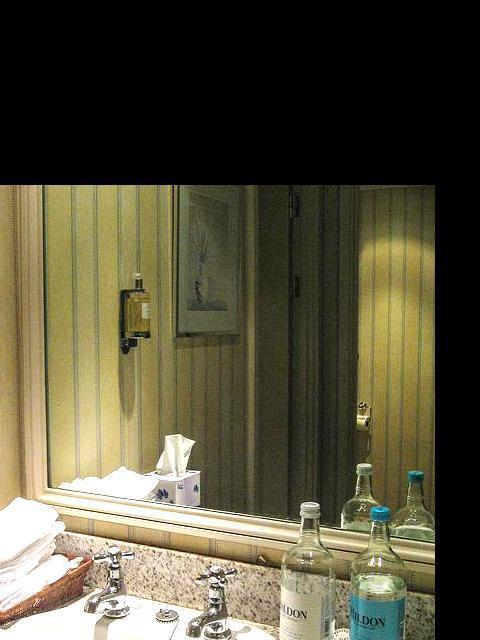Lavamanos: (0, 547, 279, 640)
